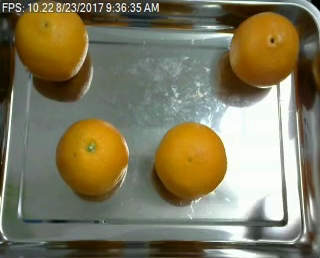Orange: (13, 1, 90, 83), (54, 116, 129, 197), (153, 120, 228, 201), (229, 10, 301, 88)
